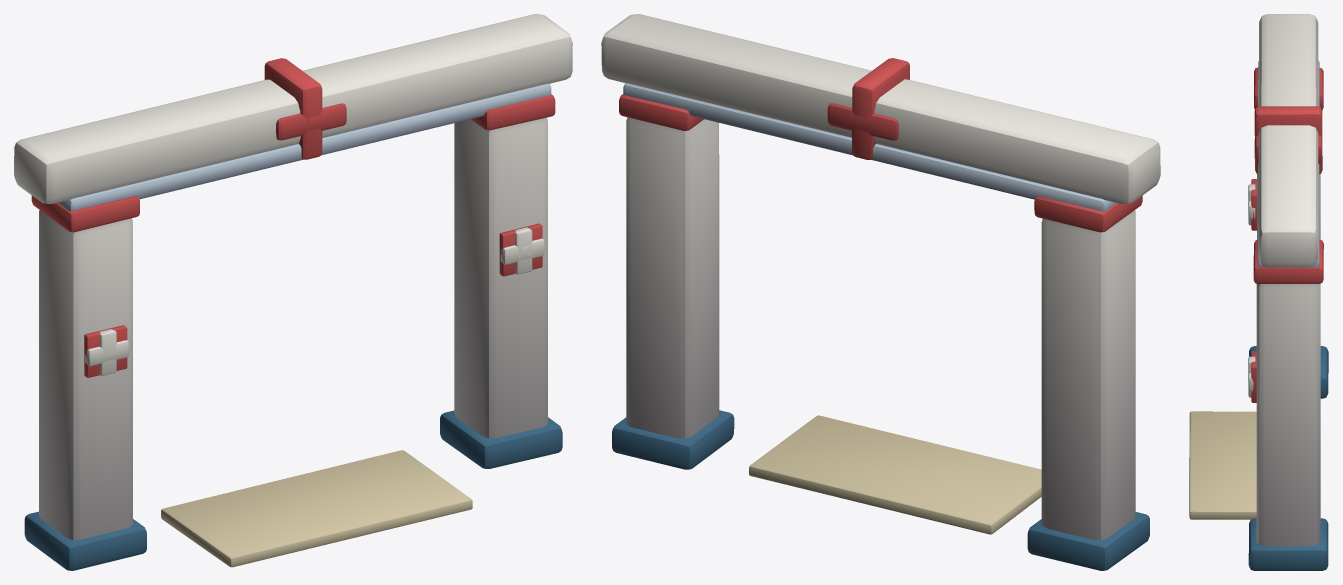
The picture shows the model from 3 angles, left to right: view 1: azimuth 30°, elevation 25°; view 2: azimuth 150°, elevation 25°; view 3: azimuth 270°, elevation 25°; orthographic projection. The views are drawn at different scales.
Visible parts, largest first — view 1: gate_c82b9b90; view 2: gate_c82b9b90; view 3: gate_c82b9b90.
Part boxes in pixels (x1,y1,x2,y2): gate_c82b9b90: (14, 14, 572, 570); gate_c82b9b90: (601, 14, 1160, 570); gate_c82b9b90: (1189, 14, 1328, 570).
Size of the model in its own units: 5.25 by 4.01 by 1.4.
